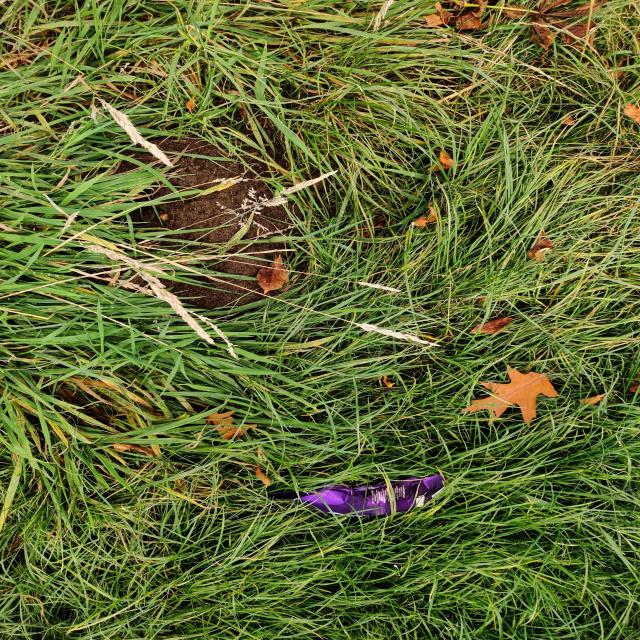litter: (282, 464, 457, 520)
